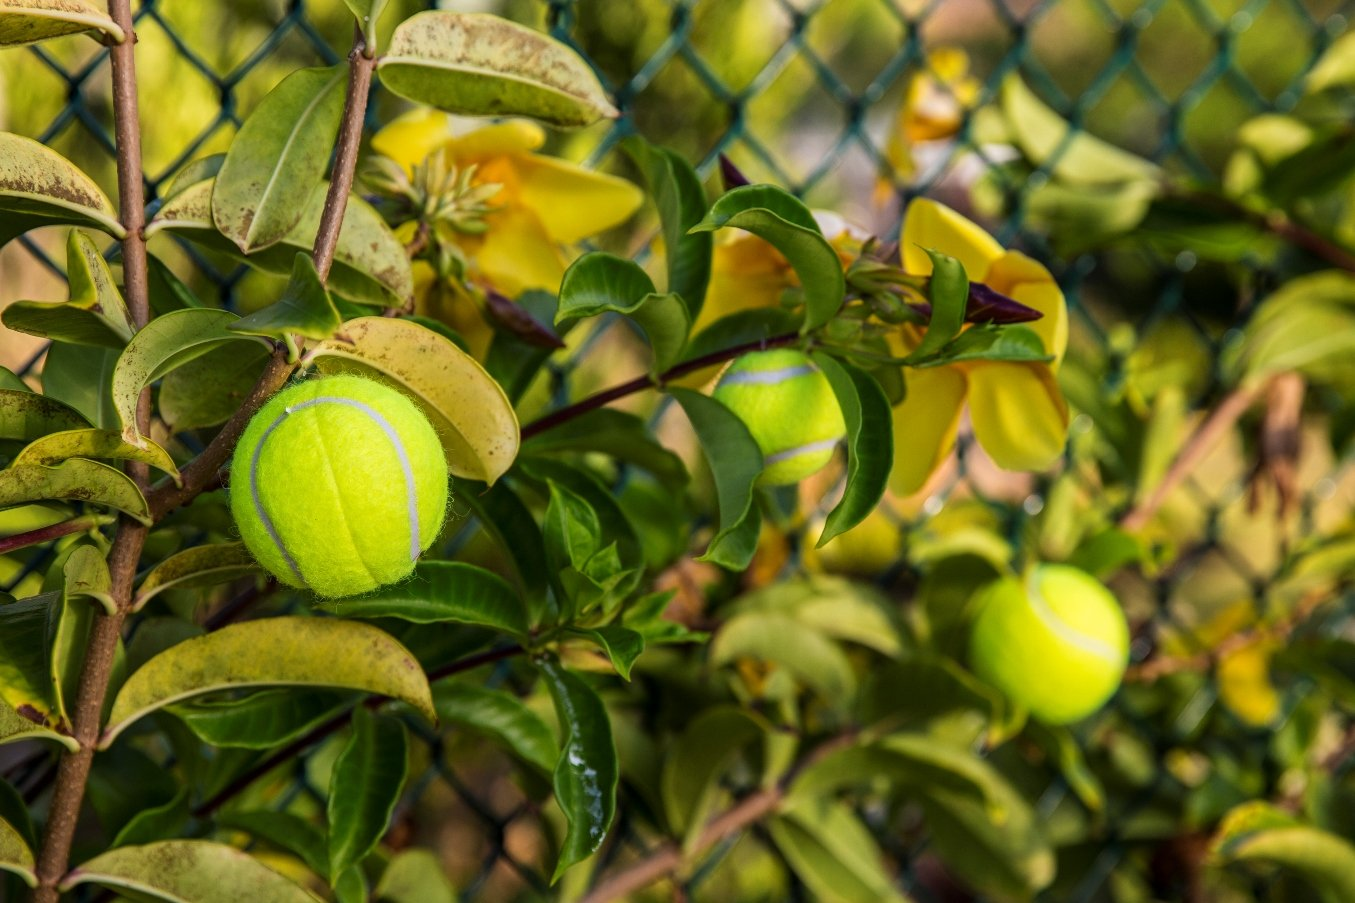aim: (228, 374, 447, 596), (963, 564, 1128, 728), (712, 345, 846, 486)
